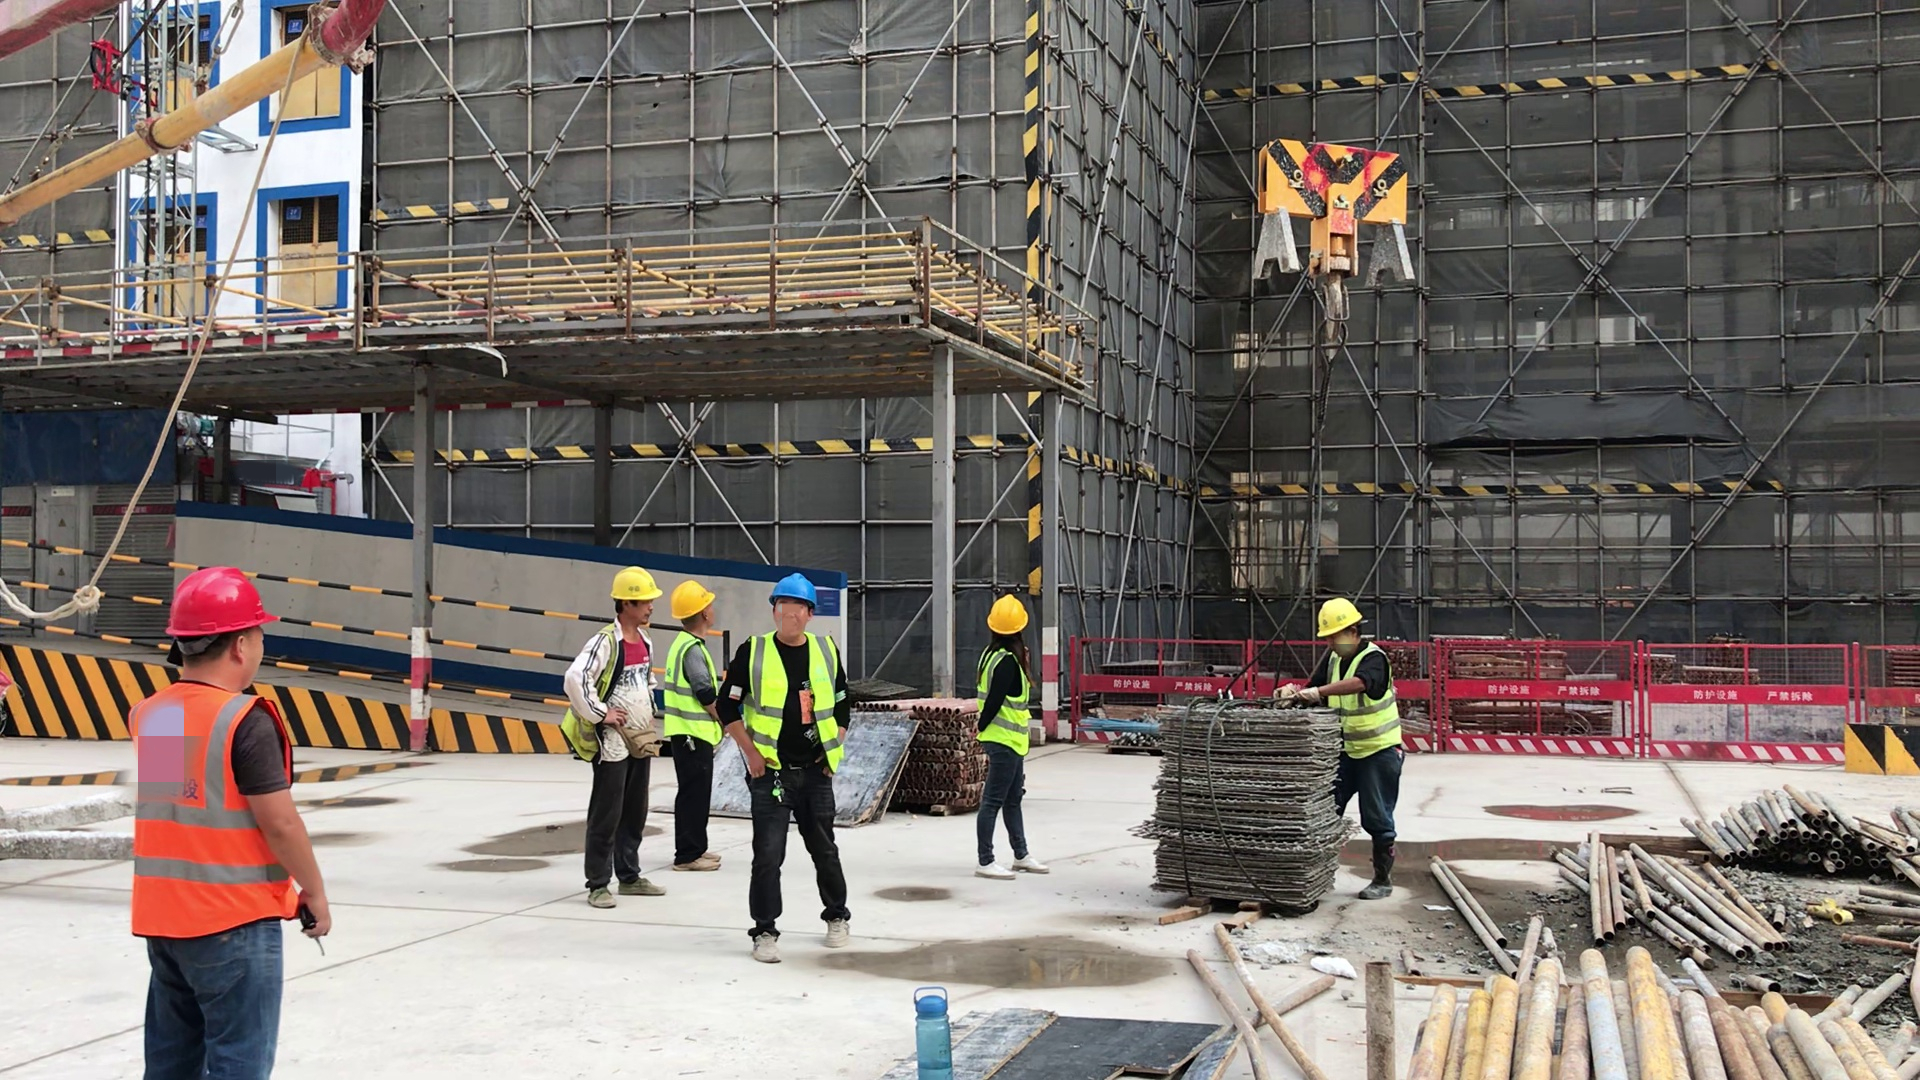fence: (1073, 639, 1920, 767)
helmet: (167, 565, 279, 641), (983, 591, 1029, 635), (1315, 596, 1362, 638), (609, 565, 659, 603), (671, 580, 716, 618), (767, 572, 816, 606)
hook: (1246, 135, 1421, 358)
person: (131, 569, 333, 1080), (716, 571, 853, 964), (1274, 596, 1403, 904), (563, 566, 671, 911), (974, 593, 1054, 882), (660, 580, 728, 874)
scaffold: (1154, 700, 1336, 915), (908, 704, 983, 814)
vest: (129, 680, 298, 939), (744, 634, 846, 773), (1312, 642, 1402, 760), (661, 630, 721, 745), (978, 645, 1032, 754)
